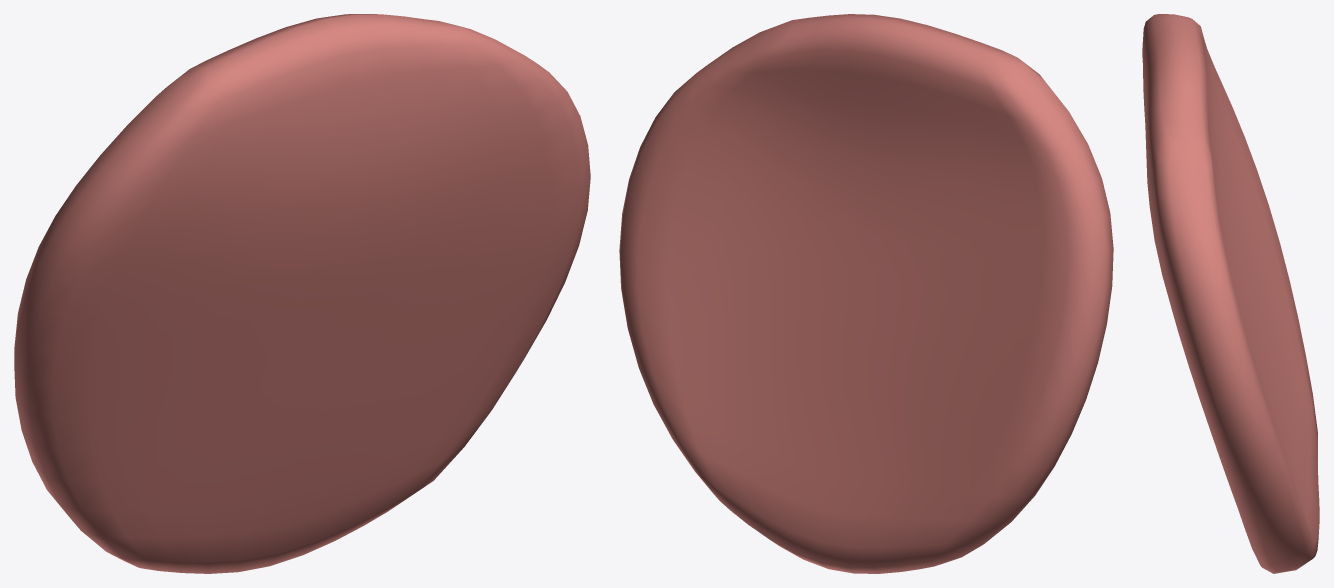
3 renders of one model, left to right at view 1: azimuth 30°, elevation 25°; view 2: azimuth 150°, elevation 25°; view 3: azimuth 270°, elevation 25°, orthographic. The views are drawn at different scales.
Visible parts, largest first — view 1: ZA_605c99db80eb9856; view 2: ZA_605c99db80eb9856; view 3: ZA_605c99db80eb9856.
Part boxes in pixels (left/top/right/bottom): ZA_605c99db80eb9856: left=14, top=14, right=590, bottom=573; ZA_605c99db80eb9856: left=619, top=14, right=1113, bottom=573; ZA_605c99db80eb9856: left=1142, top=14, right=1319, bottom=573.
Bounding box in the file's own units: 0.0181 × 0.0182 × 0.00588.
